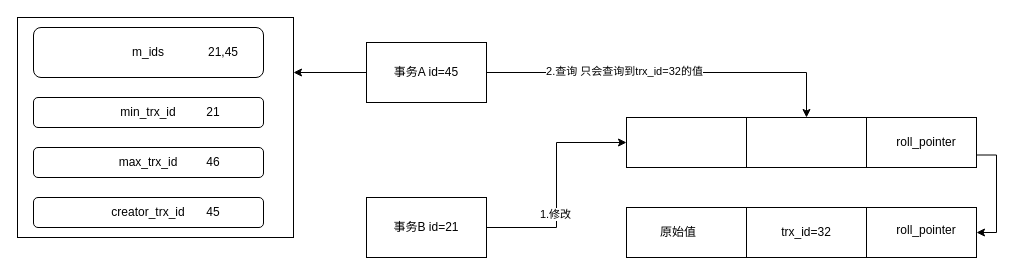
Some shapes in this 1022 by 275 pixel diagram are drawn without their labels. The shapes that lost their labels are listed below. From the top down, each one's centre as x and y in pixels, then its label:
the point at 686,142: 值B
the point at 806,142: trx_id=21
